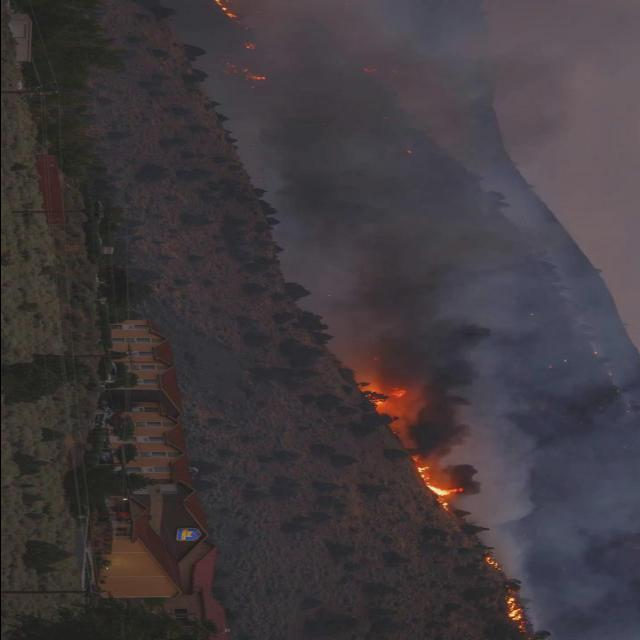Fire: (417, 464, 457, 510), (362, 385, 408, 405), (506, 594, 522, 620), (217, 2, 234, 18), (486, 555, 498, 569), (250, 74, 268, 80)
